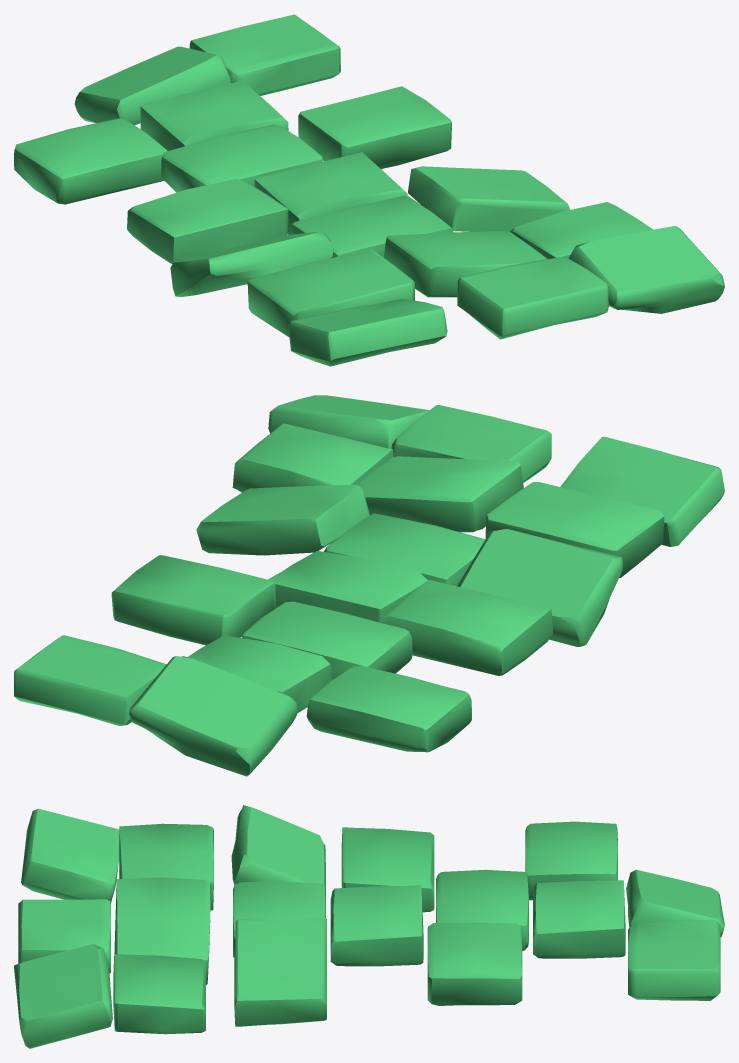
Rendered from dalle_ground_path03.fbx.
3 renders of one model, top to bottom at view 1: azimuth 30°, elevation 25°; view 2: azimuth 150°, elevation 25°; view 3: azimuth 270°, elevation 25°, orthographic. The views are drawn at different scales.
Parts seen in each view (by area): view 1: dalle_ground_path01; view 2: dalle_ground_path01; view 3: dalle_ground_path01.
Part boxes in pixels (x1,y1,x2,y2): dalle_ground_path01: (14, 14, 724, 366); dalle_ground_path01: (14, 395, 724, 776); dalle_ground_path01: (14, 805, 724, 1048).
Size of the model in its own units: 3.17 by 0.493 by 4.88.
